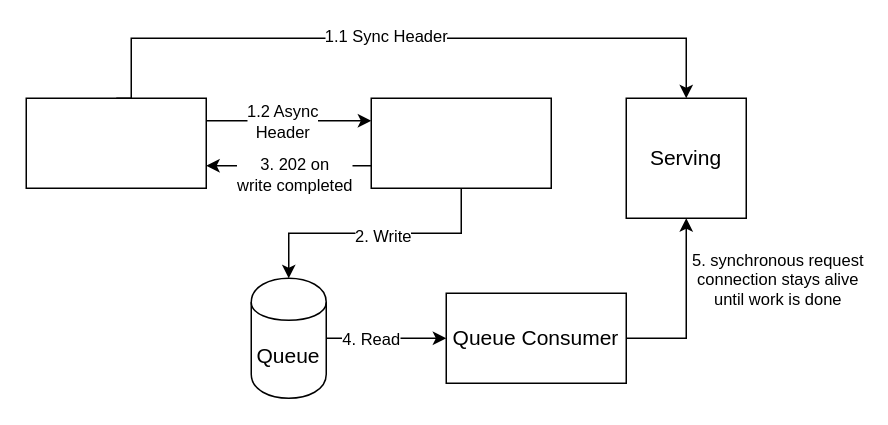
Image size: 888x425. Some labels were removed from this diagram. Each missing label, with the box of its shape:
Async Handler (Queue Producer): (370, 97, 551, 188)
Gateway: (25, 97, 206, 188)
